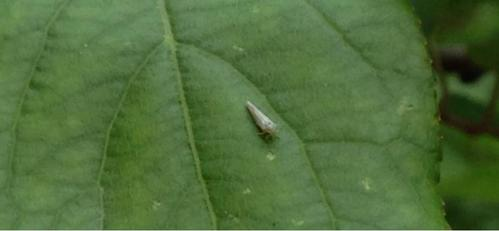Cicadellidae: (246, 100, 279, 140)
